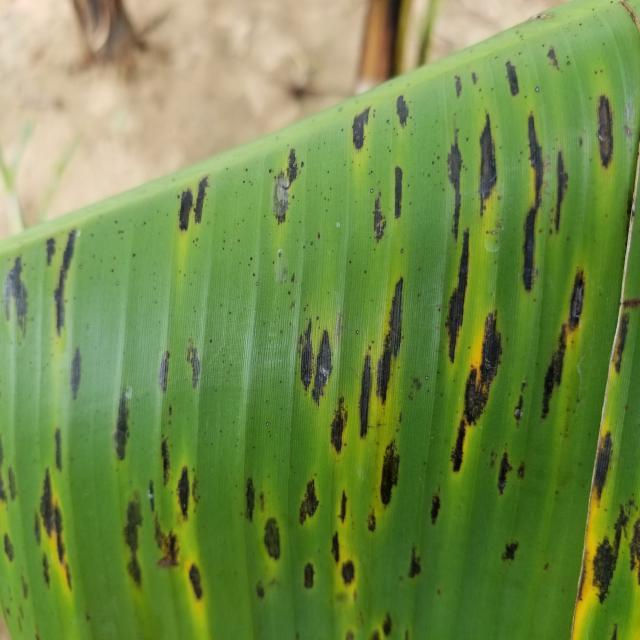Early_rust: (0, 23, 640, 639)
